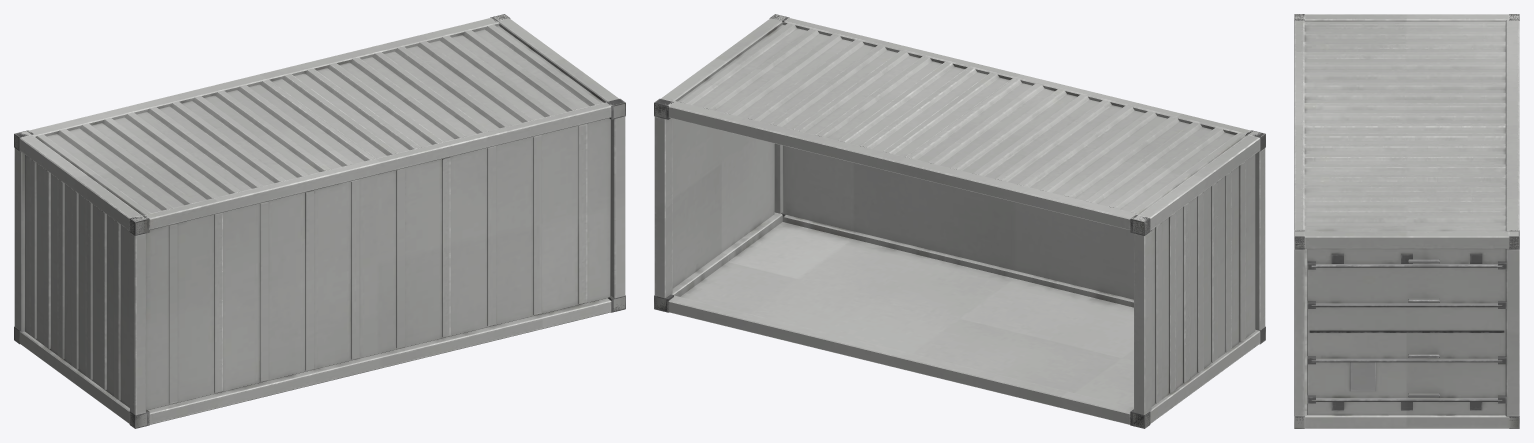
Rendered from container.glb.
The picture shows the model from 3 angles, left to right: view 1: azimuth 30°, elevation 25°; view 2: azimuth 150°, elevation 25°; view 3: azimuth 270°, elevation 25°; orthographic projection. The views are drawn at different scales.
Visible parts, largest first — view 1: container; view 2: container; view 3: container.
Part boxes in pixels (left/top/right/bottom): container: left=14, top=14, right=625, bottom=428; container: left=654, top=14, right=1265, bottom=428; container: left=1294, top=14, right=1519, bottom=428.
Bounding box in the file's own units: 6.11 × 2.44 × 2.59.
1 material, 1 textured.
